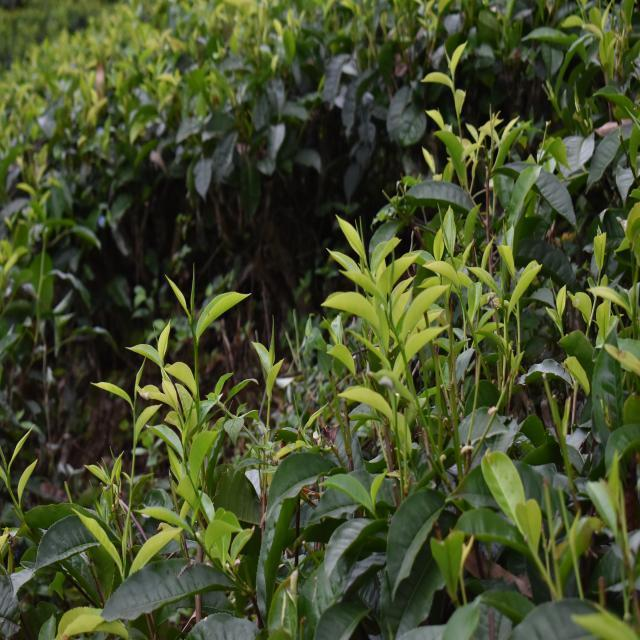Stem: (194, 342, 198, 349), (533, 553, 538, 558), (268, 396, 271, 402), (132, 408, 135, 413), (454, 94, 456, 98), (8, 487, 10, 490)
